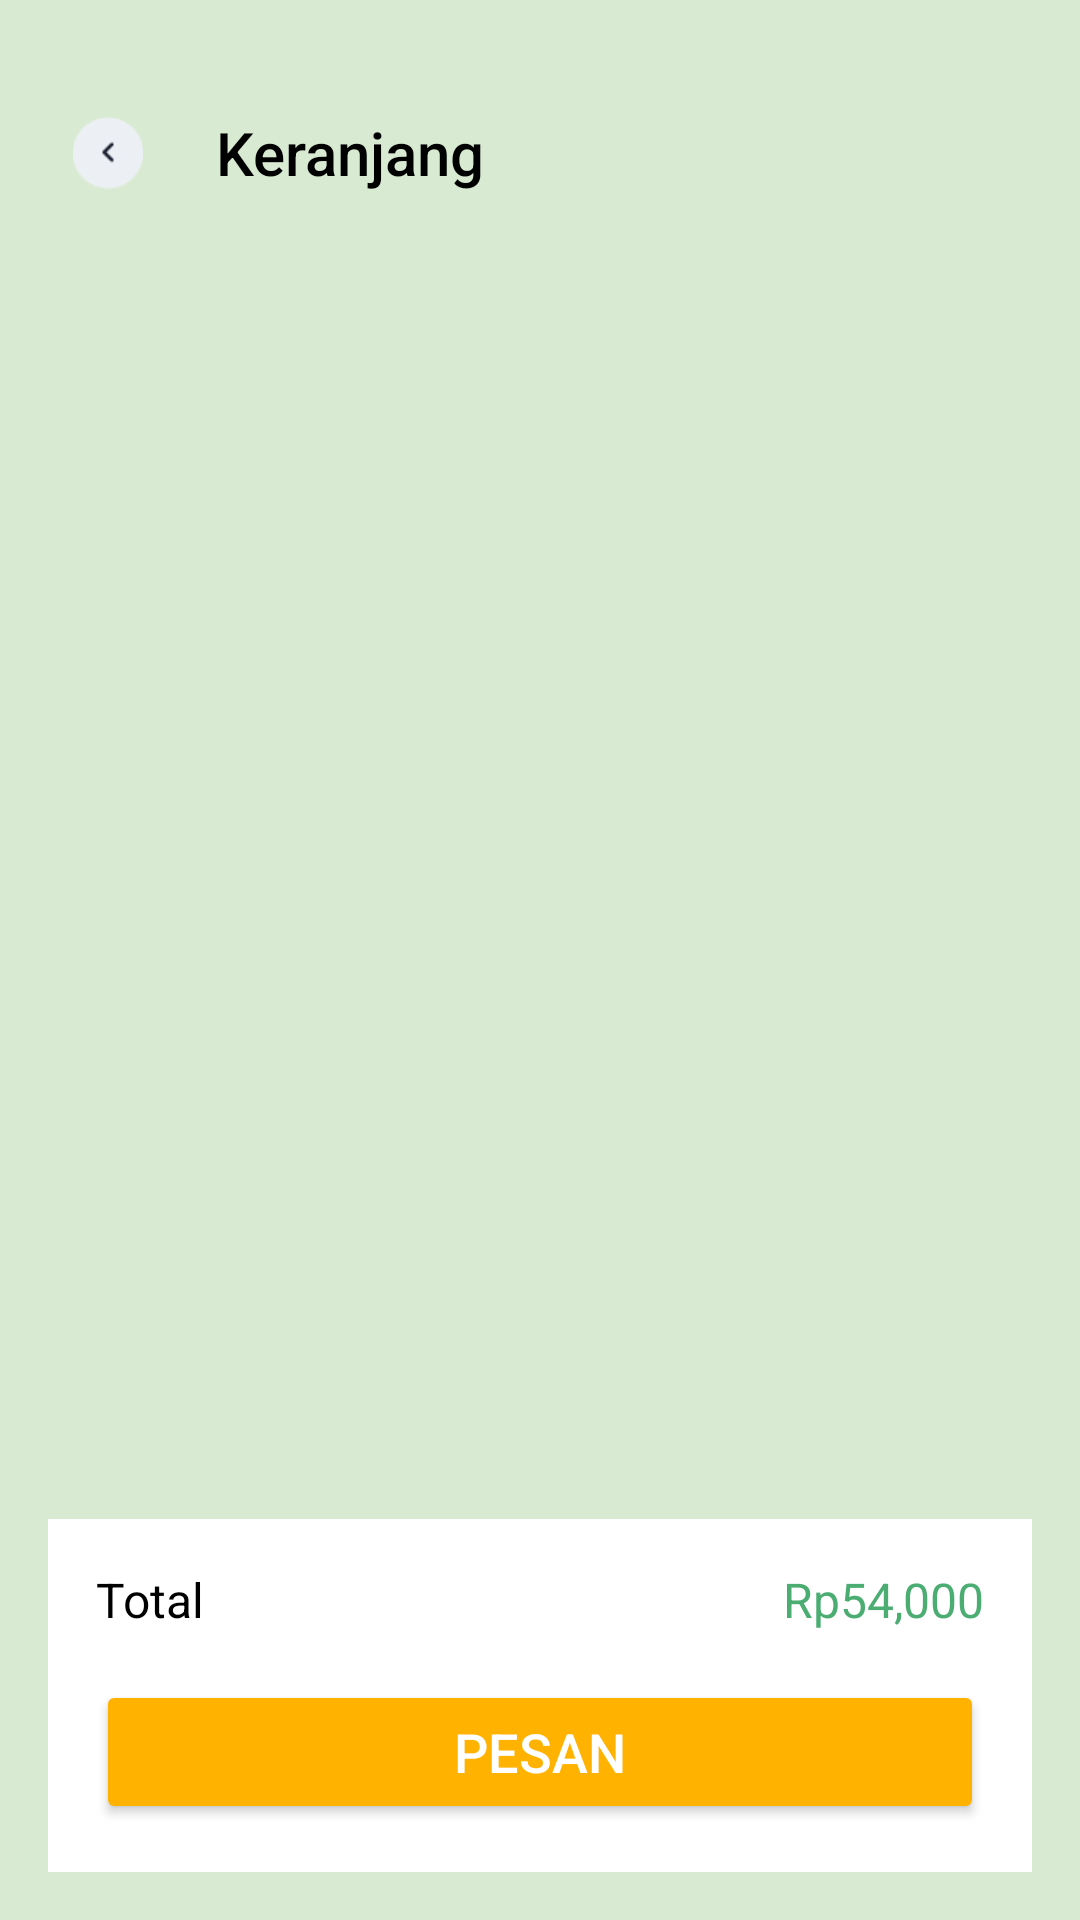

Icons on this 1080×1920 Android screen, each with the point to tap as point (x, y):
back: point (108, 152)
